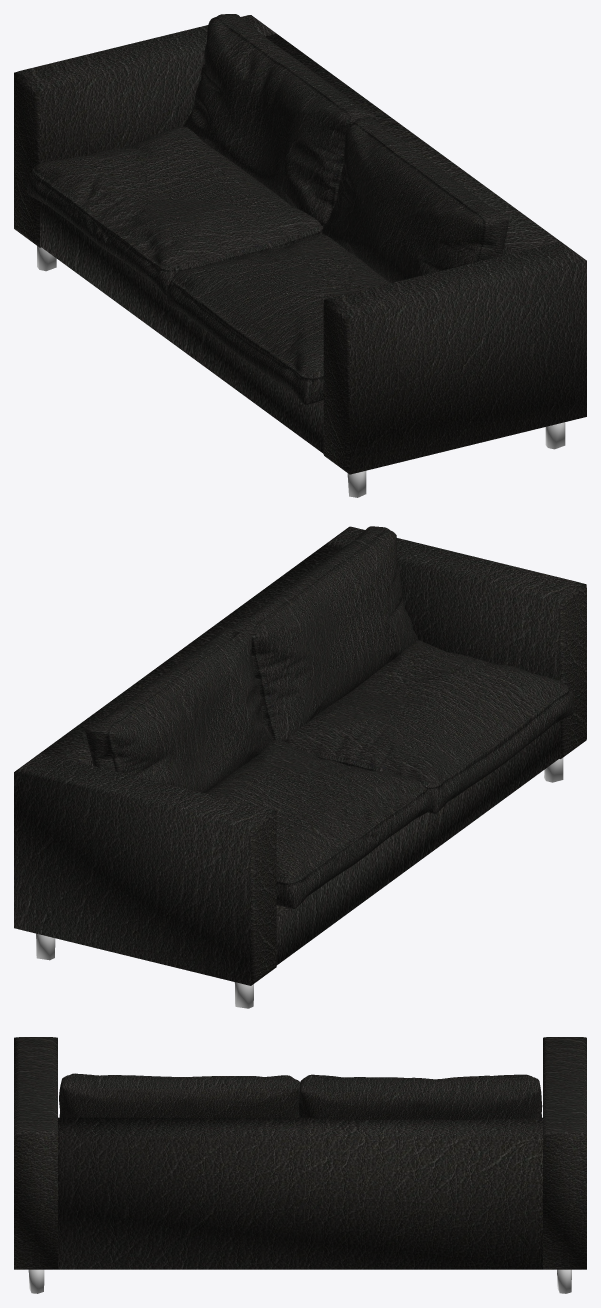
The model's file is black_leather_sofa.glb.
3 views of the same model, one above another, from view 1: azimuth 30°, elevation 25°; view 2: azimuth 150°, elevation 25°; view 3: azimuth 270°, elevation 25° (orthographic). The views are drawn at different scales.
Visible parts, largest first — view 1: CuscinoADx (×2); view 2: CuscinoADx (×2); view 3: CuscinoADx (×2).
Boxes of the visible parts, x1=… form: CuscinoADx (×2): x1=14, y1=14, x2=586, y2=497; CuscinoADx (×2): x1=14, y1=526, x2=586, y2=1008; CuscinoADx (×2): x1=14, y1=1037, x2=586, y2=1293.
Bounding box in the file's own units: 0.2633 × 0.2242 × 0.5981.
2 materials, 1 textured.
